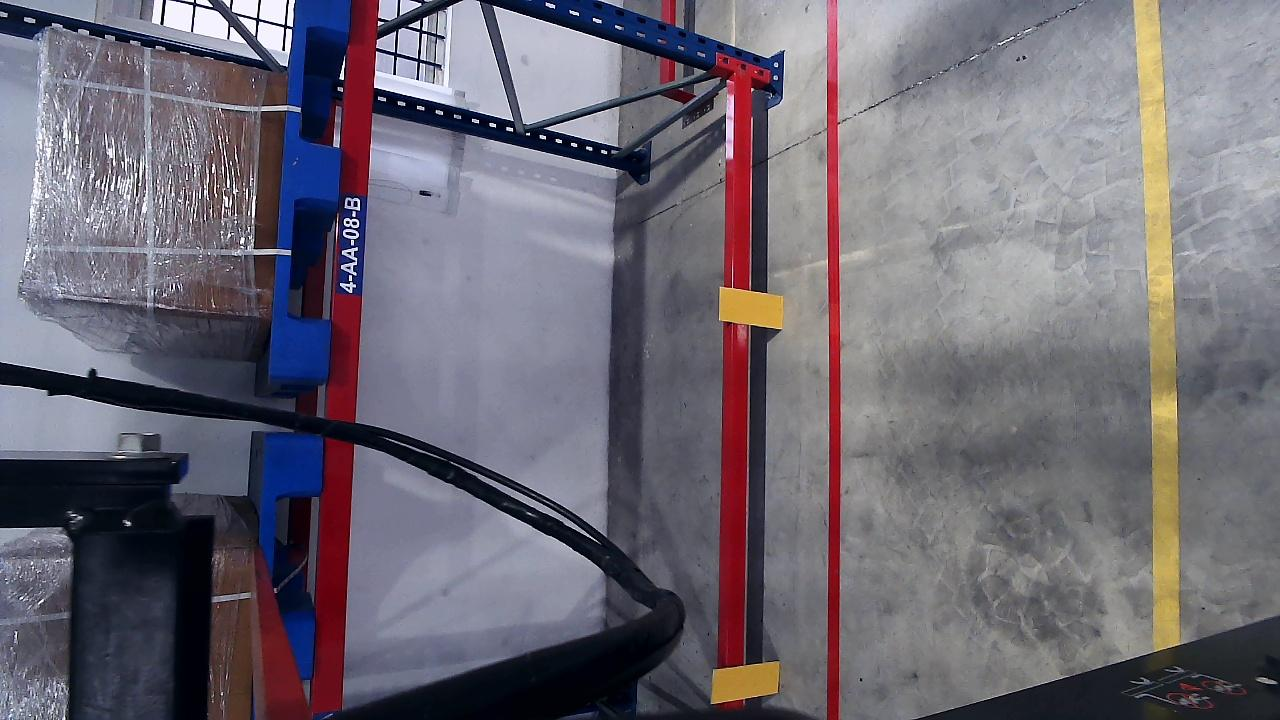h_rack: (320, 0, 383, 445), (720, 191, 756, 712)
orange_strip: (711, 660, 780, 702), (719, 285, 784, 328)
red_line: (820, 1, 852, 720)
small_pallet: (263, 2, 374, 373), (258, 435, 323, 675)
yellow_line: (1135, 0, 1181, 585)
